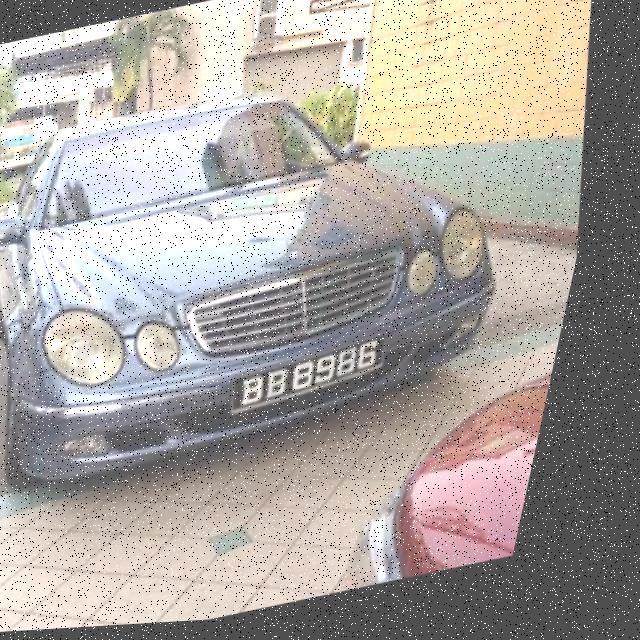license_plate: (242, 338, 410, 421)
